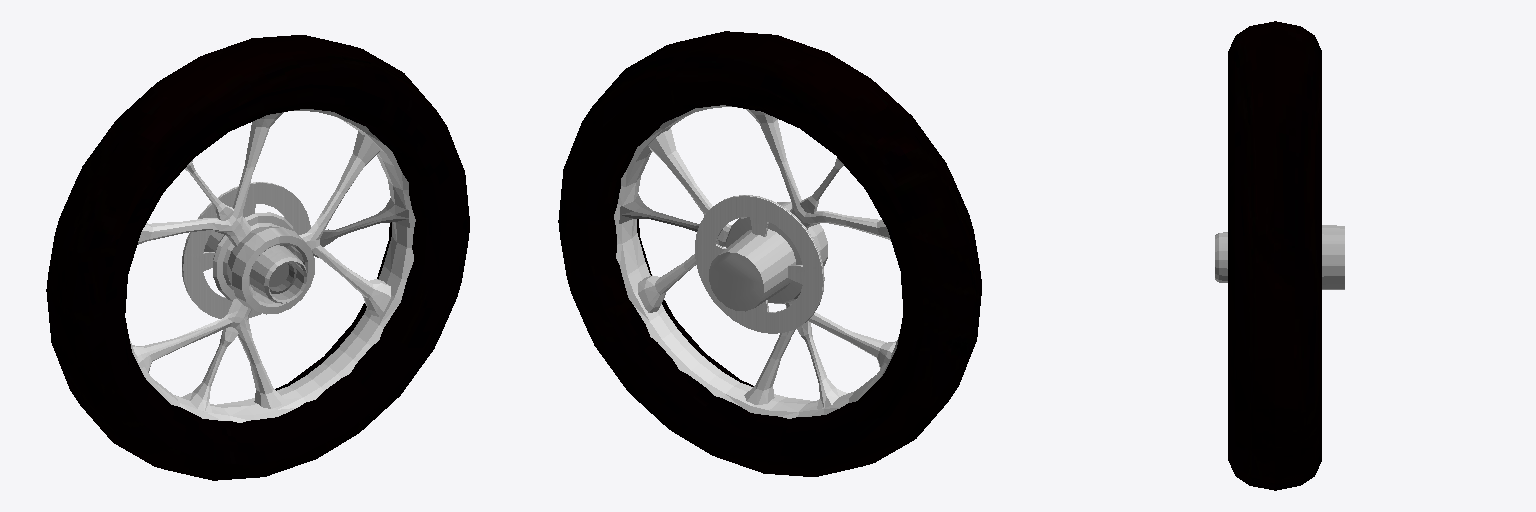
3 views of the same model, side by side, from view 1: azimuth 30°, elevation 25°; view 2: azimuth 150°, elevation 25°; view 3: azimuth 270°, elevation 25° (orthographic).
Parts seen in each view (by area): view 1: polySurface357; view 2: polySurface357; view 3: polySurface357.
Part boxes in pixels (bbox=[...]): polySurface357: bbox=[46, 35, 469, 480]; polySurface357: bbox=[558, 31, 981, 476]; polySurface357: bbox=[1215, 21, 1344, 490].
Bounding box in the file's own units: 1.05 × 1.05 × 0.2901.
Materials: 3 (2 with a texture image).